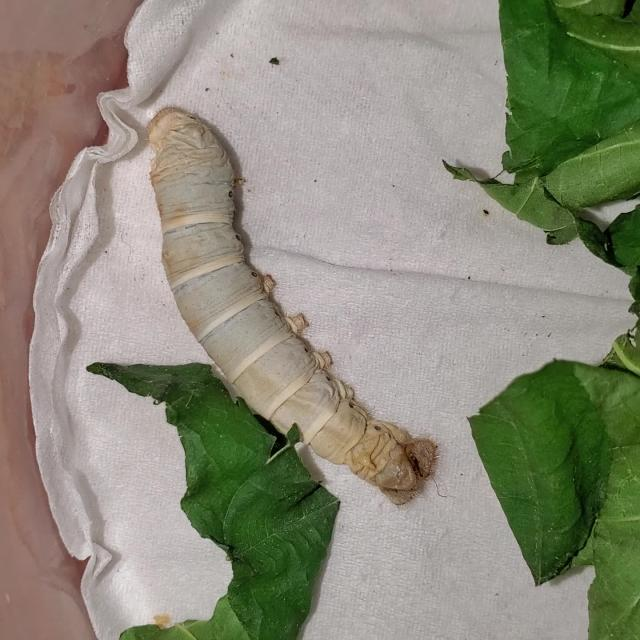Grasserie: (90, 74, 460, 524)
